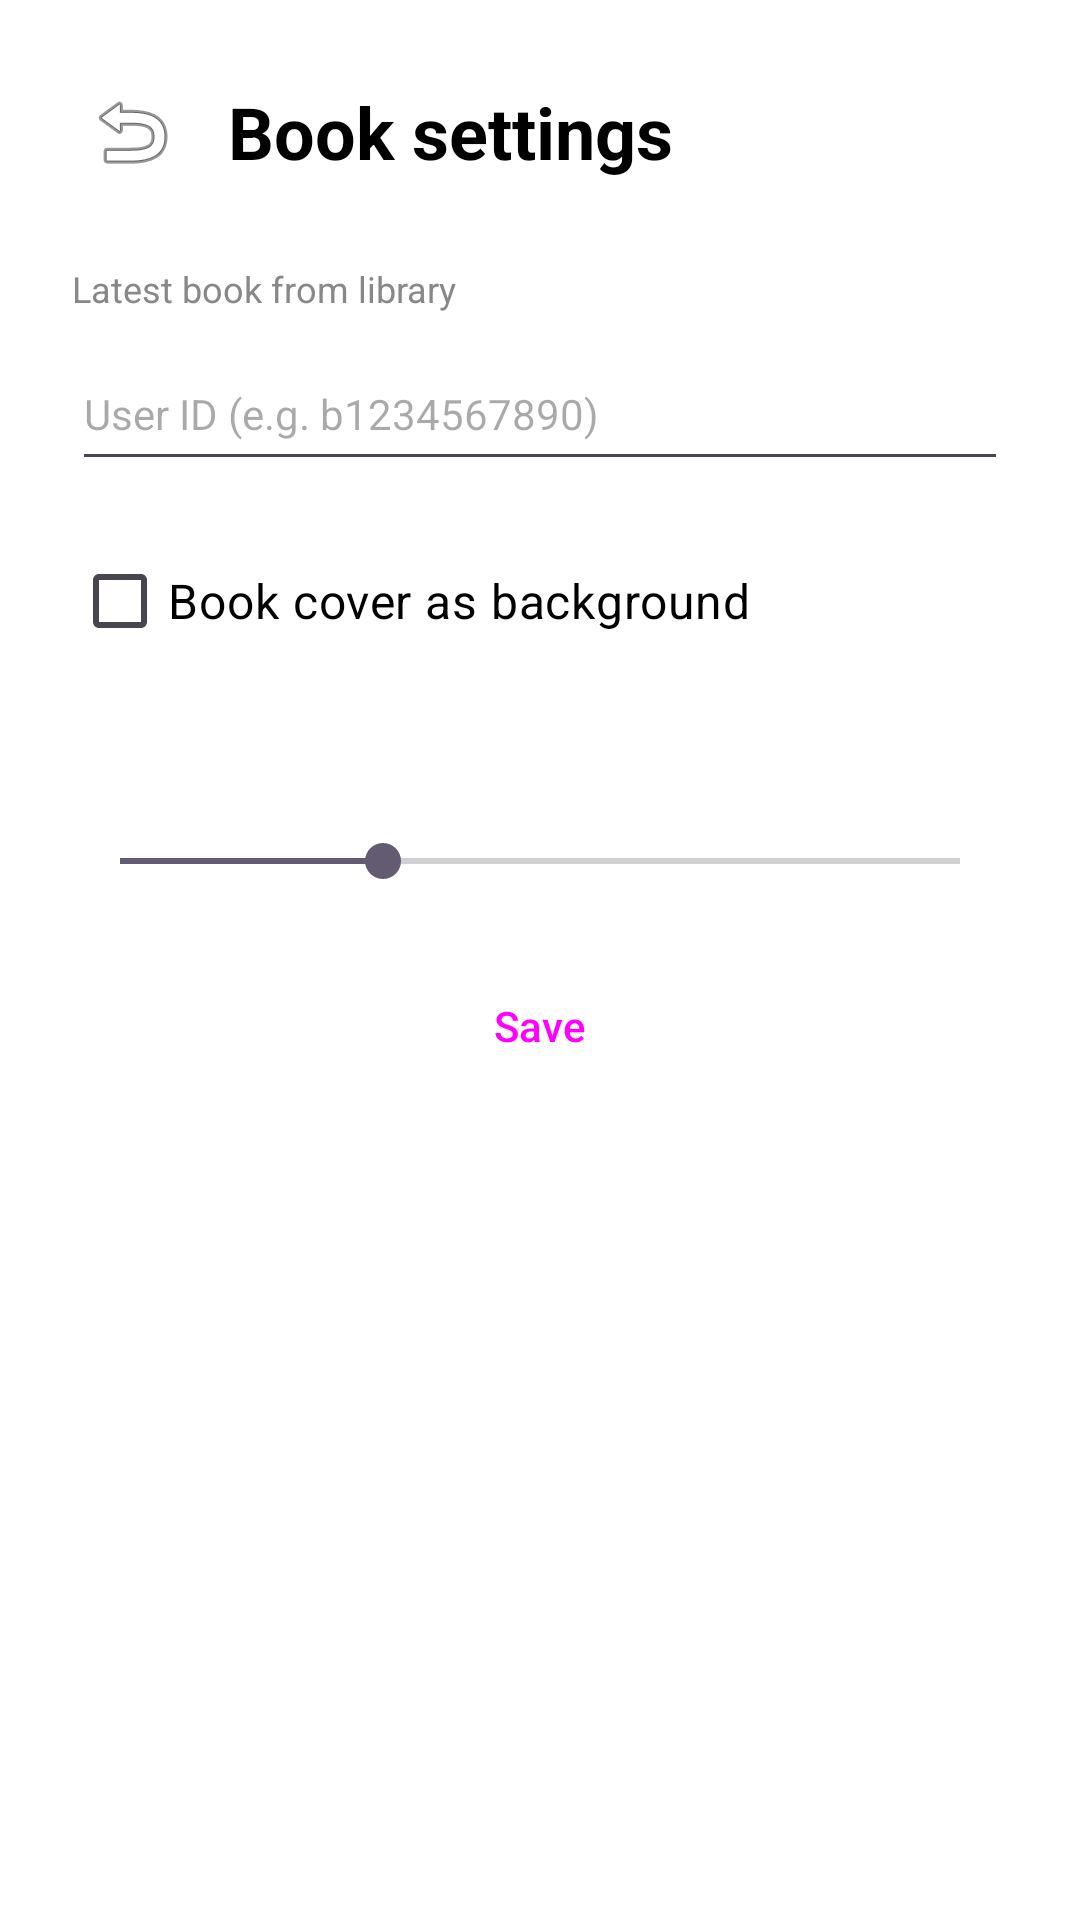

Screen size 1080 x 1920. Icon name, then its box in pixels as region(x1, y1, x2, y2):
Back: region(99, 101, 168, 164)
